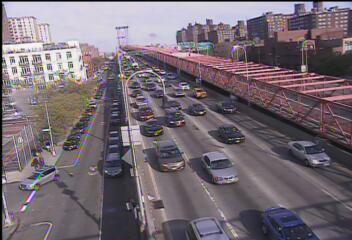neg: (59, 195, 82, 226), (285, 144, 308, 175), (119, 139, 136, 161), (86, 112, 99, 129)
pos: (30, 156, 44, 173), (36, 151, 49, 169)
